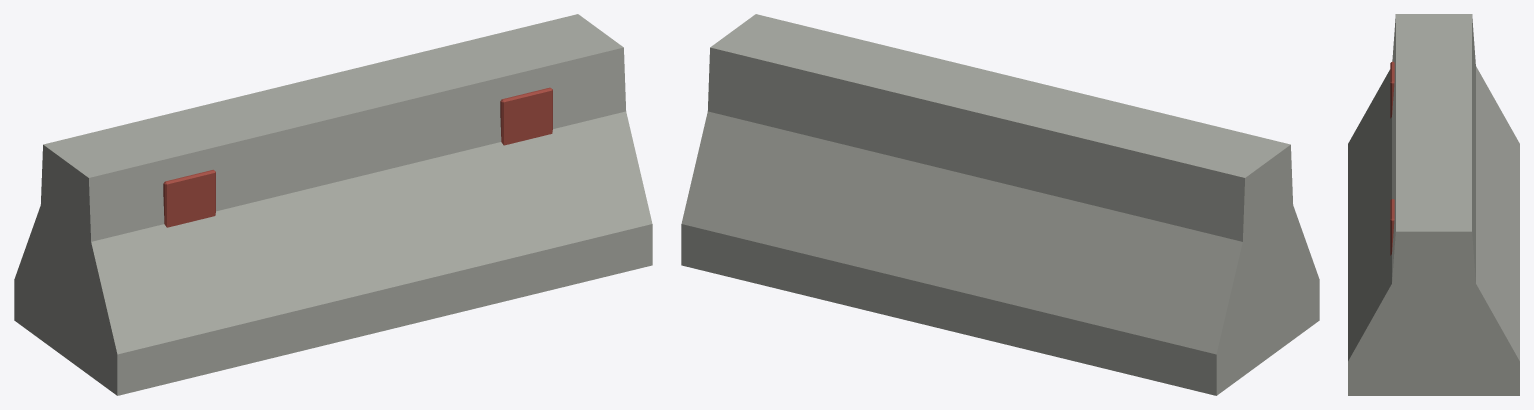
Rendered from Concrete_Barrier.glb.
3 renders of one model, left to right at view 1: azimuth 30°, elevation 25°; view 2: azimuth 150°, elevation 25°; view 3: azimuth 270°, elevation 25°, orthographic. The views are drawn at different scales.
Visible parts, largest first — view 1: Concrete_Barrier; view 2: Concrete_Barrier; view 3: Concrete_Barrier.
Boxes of the visible parts, <box> form: Concrete_Barrier: <box>14,14,652,395</box>; Concrete_Barrier: <box>681,14,1319,395</box>; Concrete_Barrier: <box>1348,14,1519,395</box>.
Bounding box in the file's own units: 2.7 × 0.95 × 0.9.
